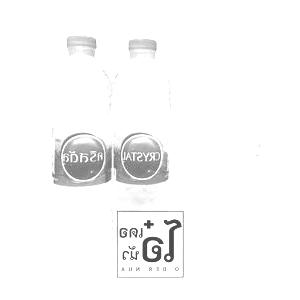bottle: (46, 29, 117, 263), (110, 34, 174, 254)
